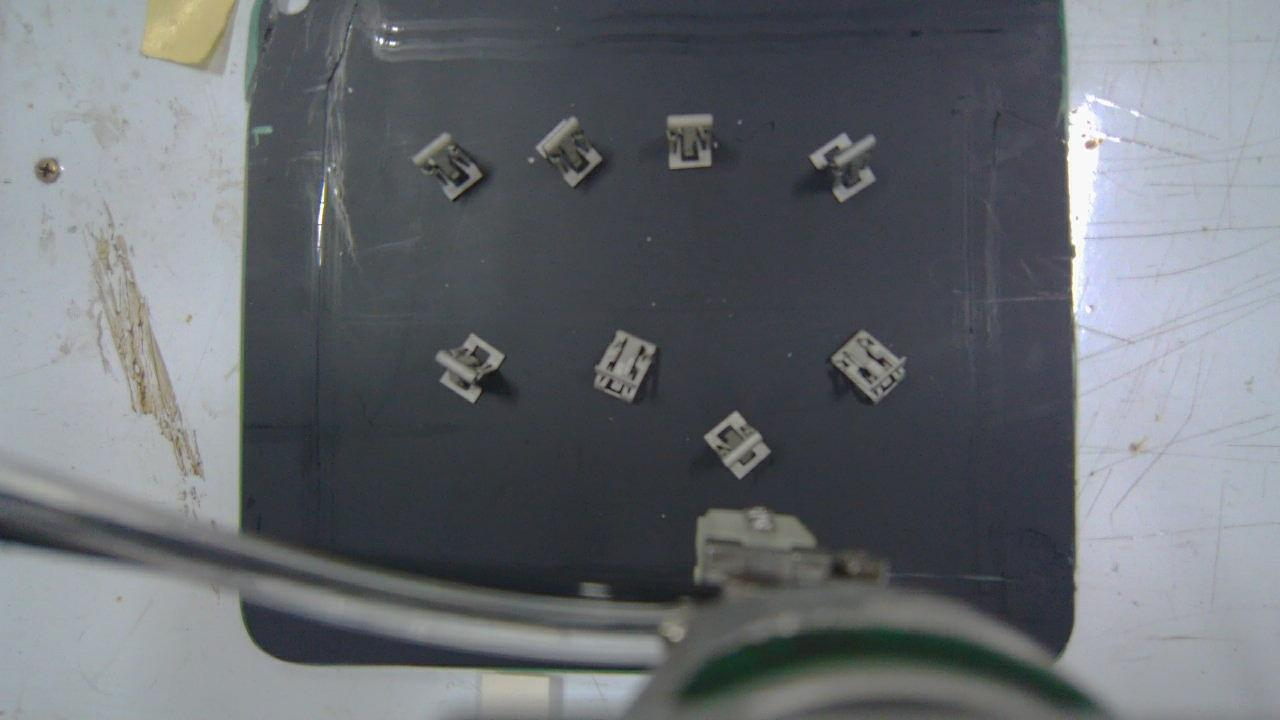ng: (830, 330, 906, 403), (592, 328, 658, 404), (412, 132, 484, 201), (536, 117, 605, 188), (667, 115, 713, 170)
pass: (434, 334, 506, 403), (704, 411, 771, 479), (810, 134, 877, 201)
